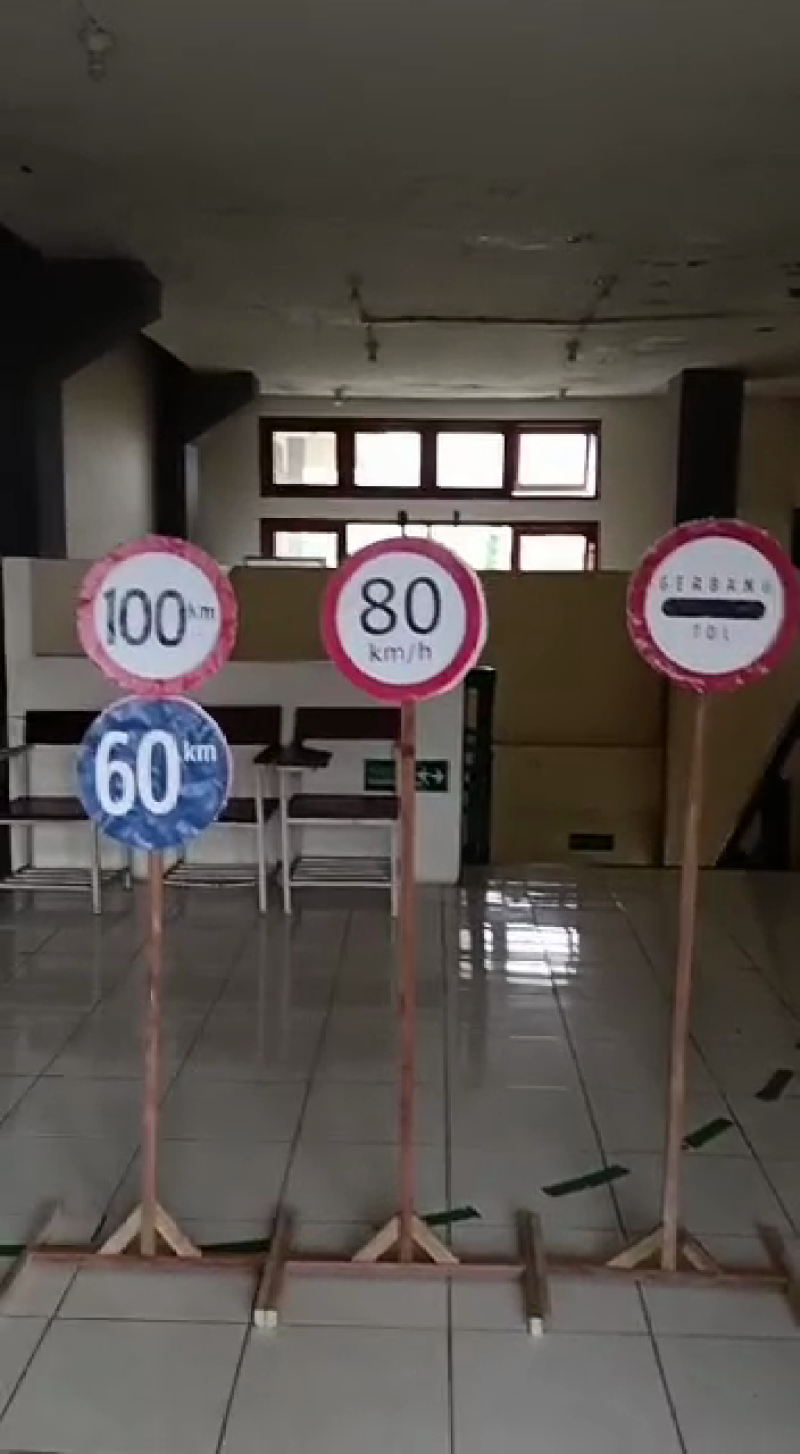batas maksimal 100kmperjam minimal 60kmperjam: (74, 529, 239, 861)
batas maksimal 80kmperjam: (309, 529, 496, 703)
gerbang tol: (611, 514, 800, 701)
